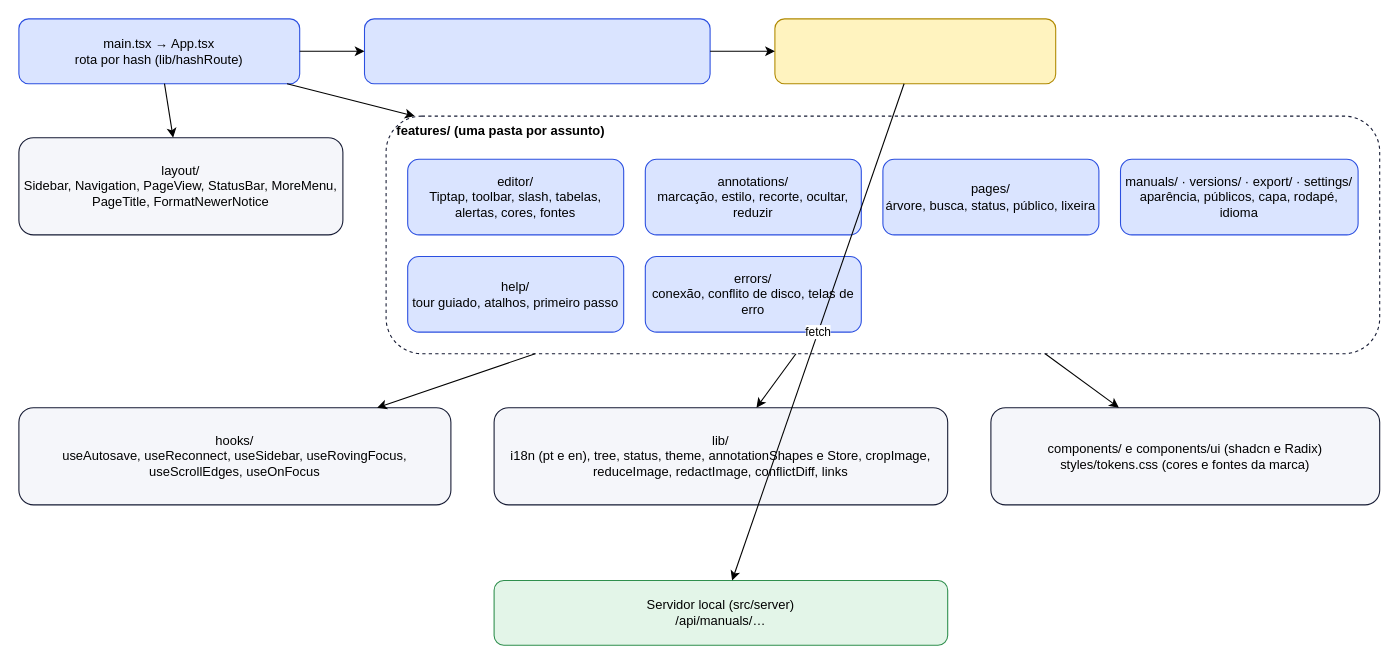
Some shapes in this 1399 by 664 pixel diagram are drawn without their labels. The shapes that lost their labels are listed below. From the top down, each one's centre as x and y in pixels, then its label:
the point at 536,51: hooks/StudioContext, useStudio, useManualActions estado do manual aberto
the point at 915,51: lib/api.ts cliente da API HTTP local
